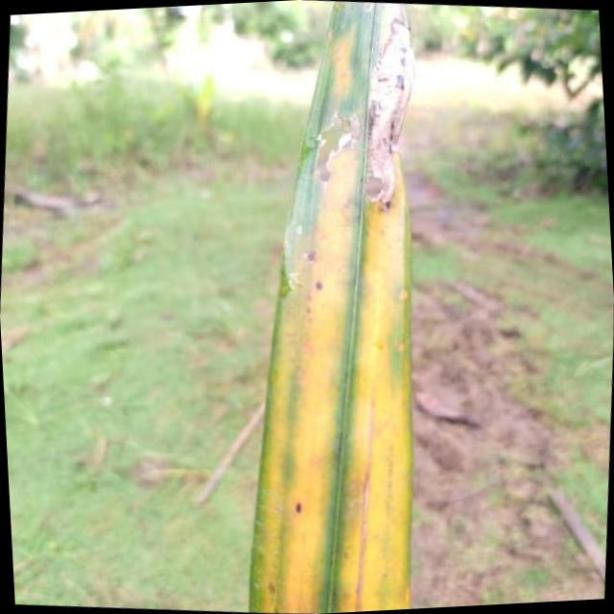Megnesium: (246, 0, 414, 614)
